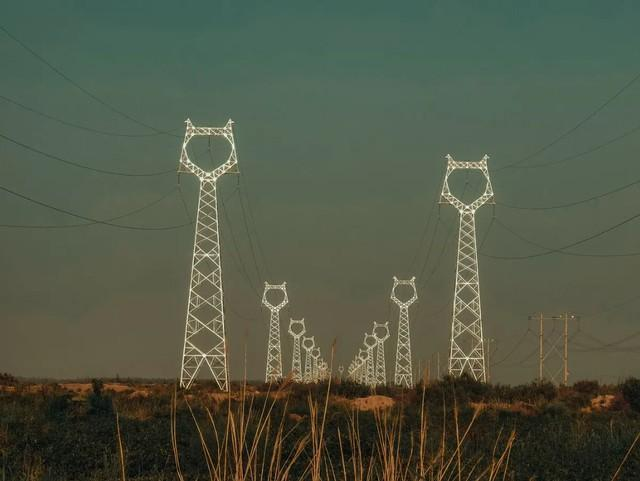power_tower: (173, 112, 246, 389), (435, 147, 501, 384), (385, 269, 419, 391), (261, 277, 291, 386), (288, 310, 305, 383)
